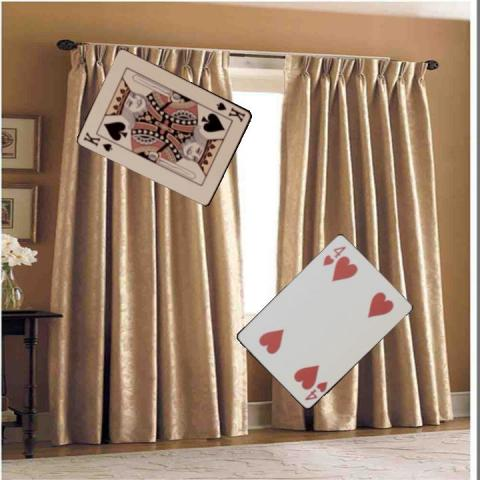4h: (320, 242, 347, 266), (302, 378, 329, 402)
Ks: (213, 99, 247, 124), (81, 129, 114, 153)
